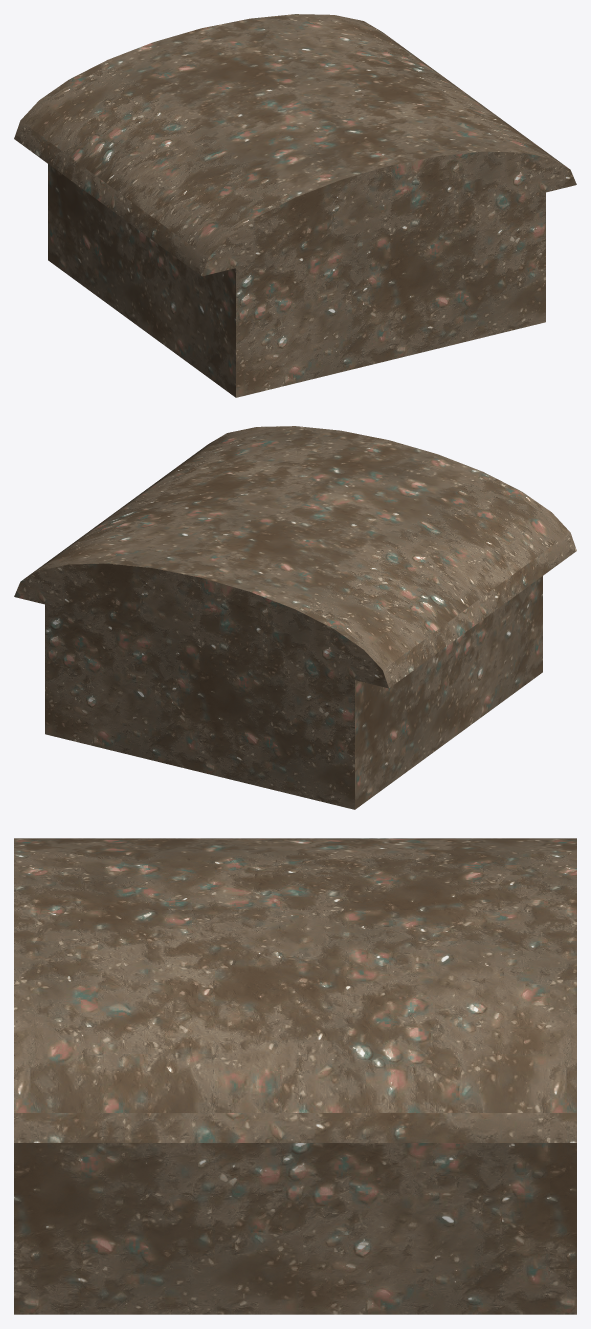
File: bread.fbx
The picture shows the model from 3 angles, top to bottom: view 1: azimuth 30°, elevation 25°; view 2: azimuth 150°, elevation 25°; view 3: azimuth 270°, elevation 25°; orthographic projection. The views are drawn at different scales.
Parts seen in each view (by area): view 1: cylinder_half, block; view 2: cylinder_half, block; view 3: cylinder_half, block.
Part boxes in pixels (<box>): cylinder_half: <box>14,14,576,276</box>; block: <box>48,164,545,397</box>; cylinder_half: <box>14,426,576,688</box>; block: <box>45,576,542,809</box>; cylinder_half: <box>14,838,576,1142</box>; block: <box>14,1143,576,1314</box>.
Bounding box in the file's own units: 12.1 × 6 × 10.5.
1 material, 1 textured.
